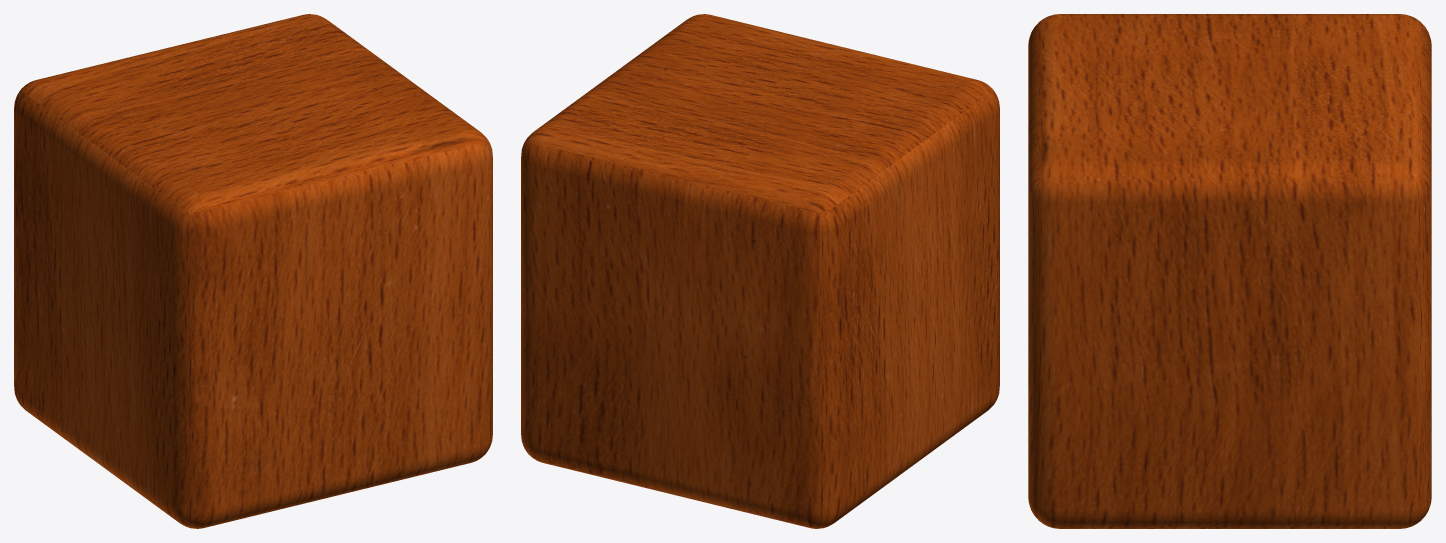
The model's file is cdcube.fbx.
3 renders of one model, left to right at view 1: azimuth 30°, elevation 25°; view 2: azimuth 150°, elevation 25°; view 3: azimuth 270°, elevation 25°, orthographic. The views are drawn at different scales.
Visible parts, largest first — view 1: Cube; view 2: Cube; view 3: Cube.
Boxes of the visible parts, x1,y1,x2,y2 form: Cube: (14, 14, 492, 528); Cube: (521, 14, 999, 528); Cube: (1028, 14, 1431, 528).
Bounding box in the file's own units: 200 × 200 × 200.
